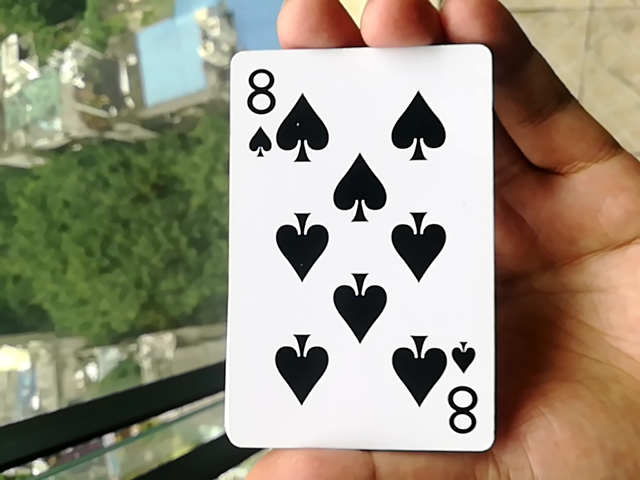ht 8: (220, 37, 483, 455)
